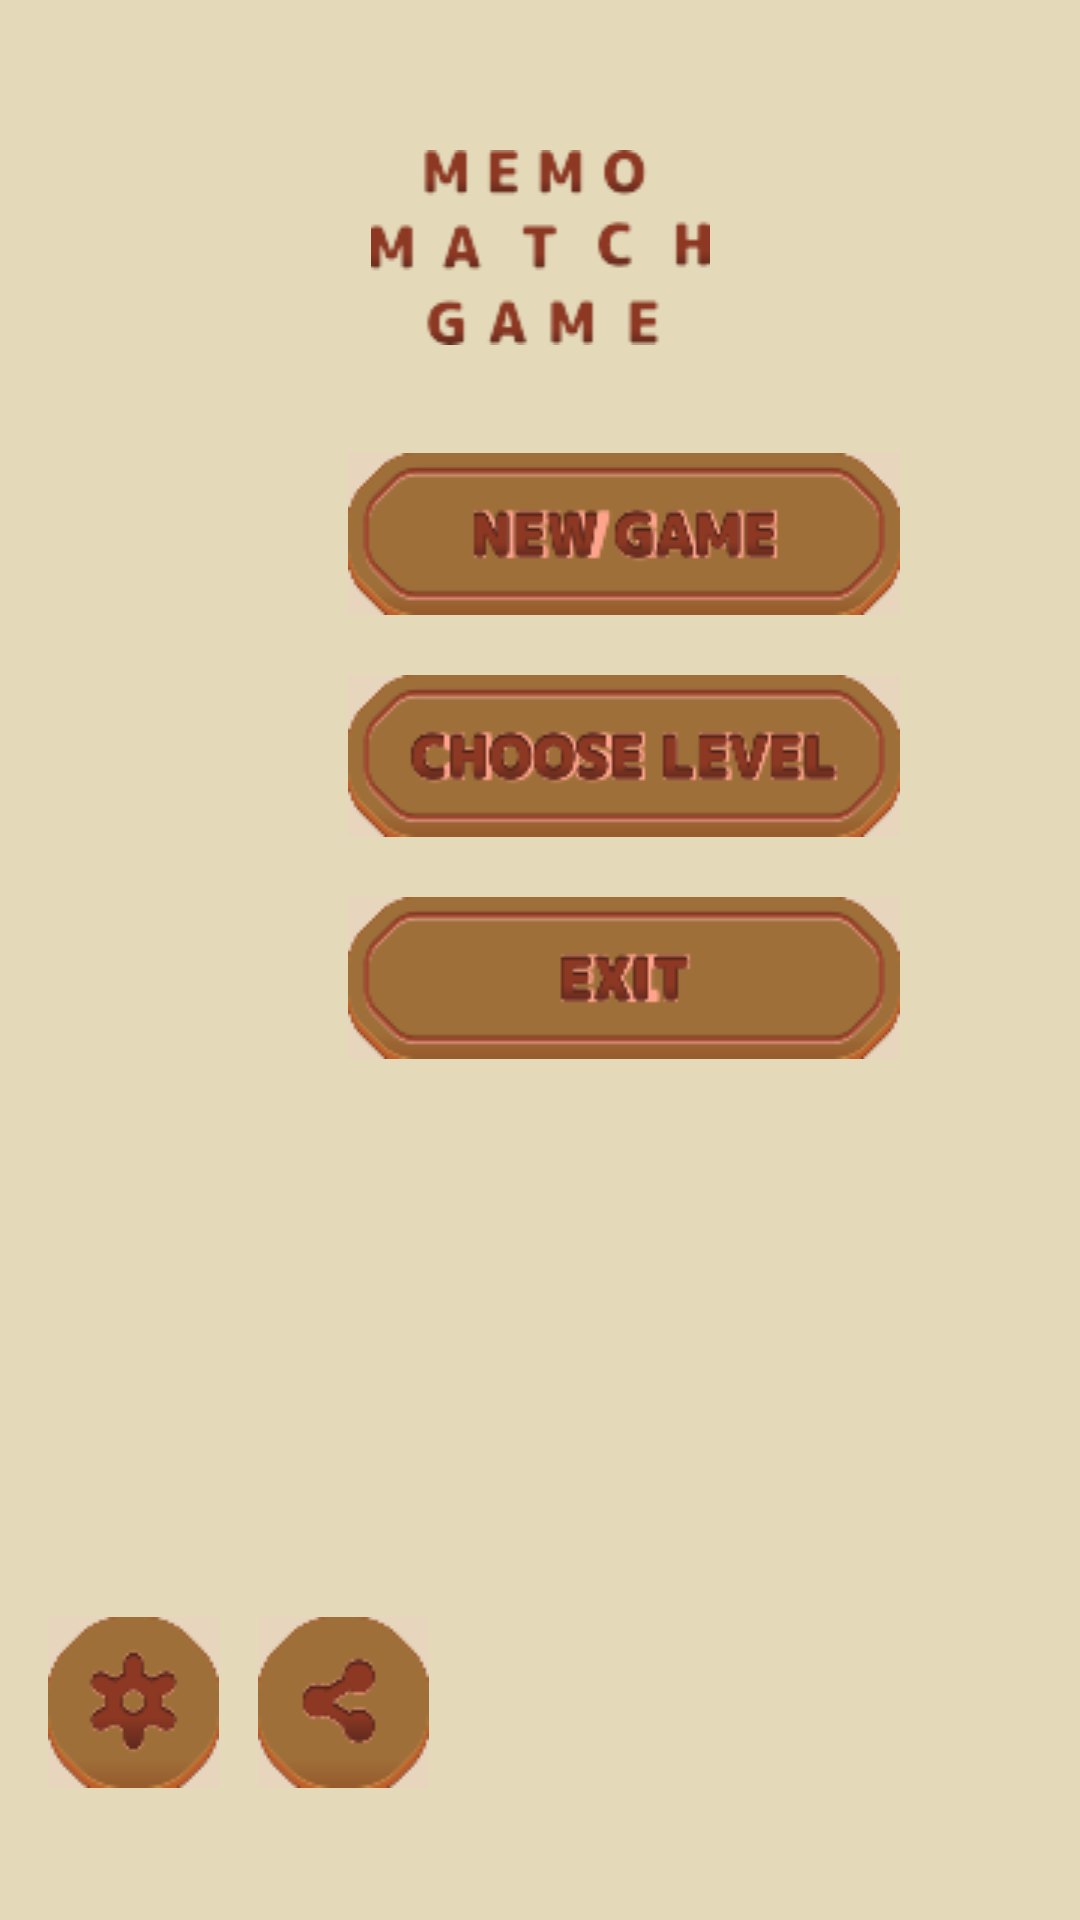

Named icons in this screenshot (1080px x 1920px) and their bounding boxes, (left=x1, top=y1, right=x2, bottom=y2):
settings: (left=48, top=1617, right=219, bottom=1788)
